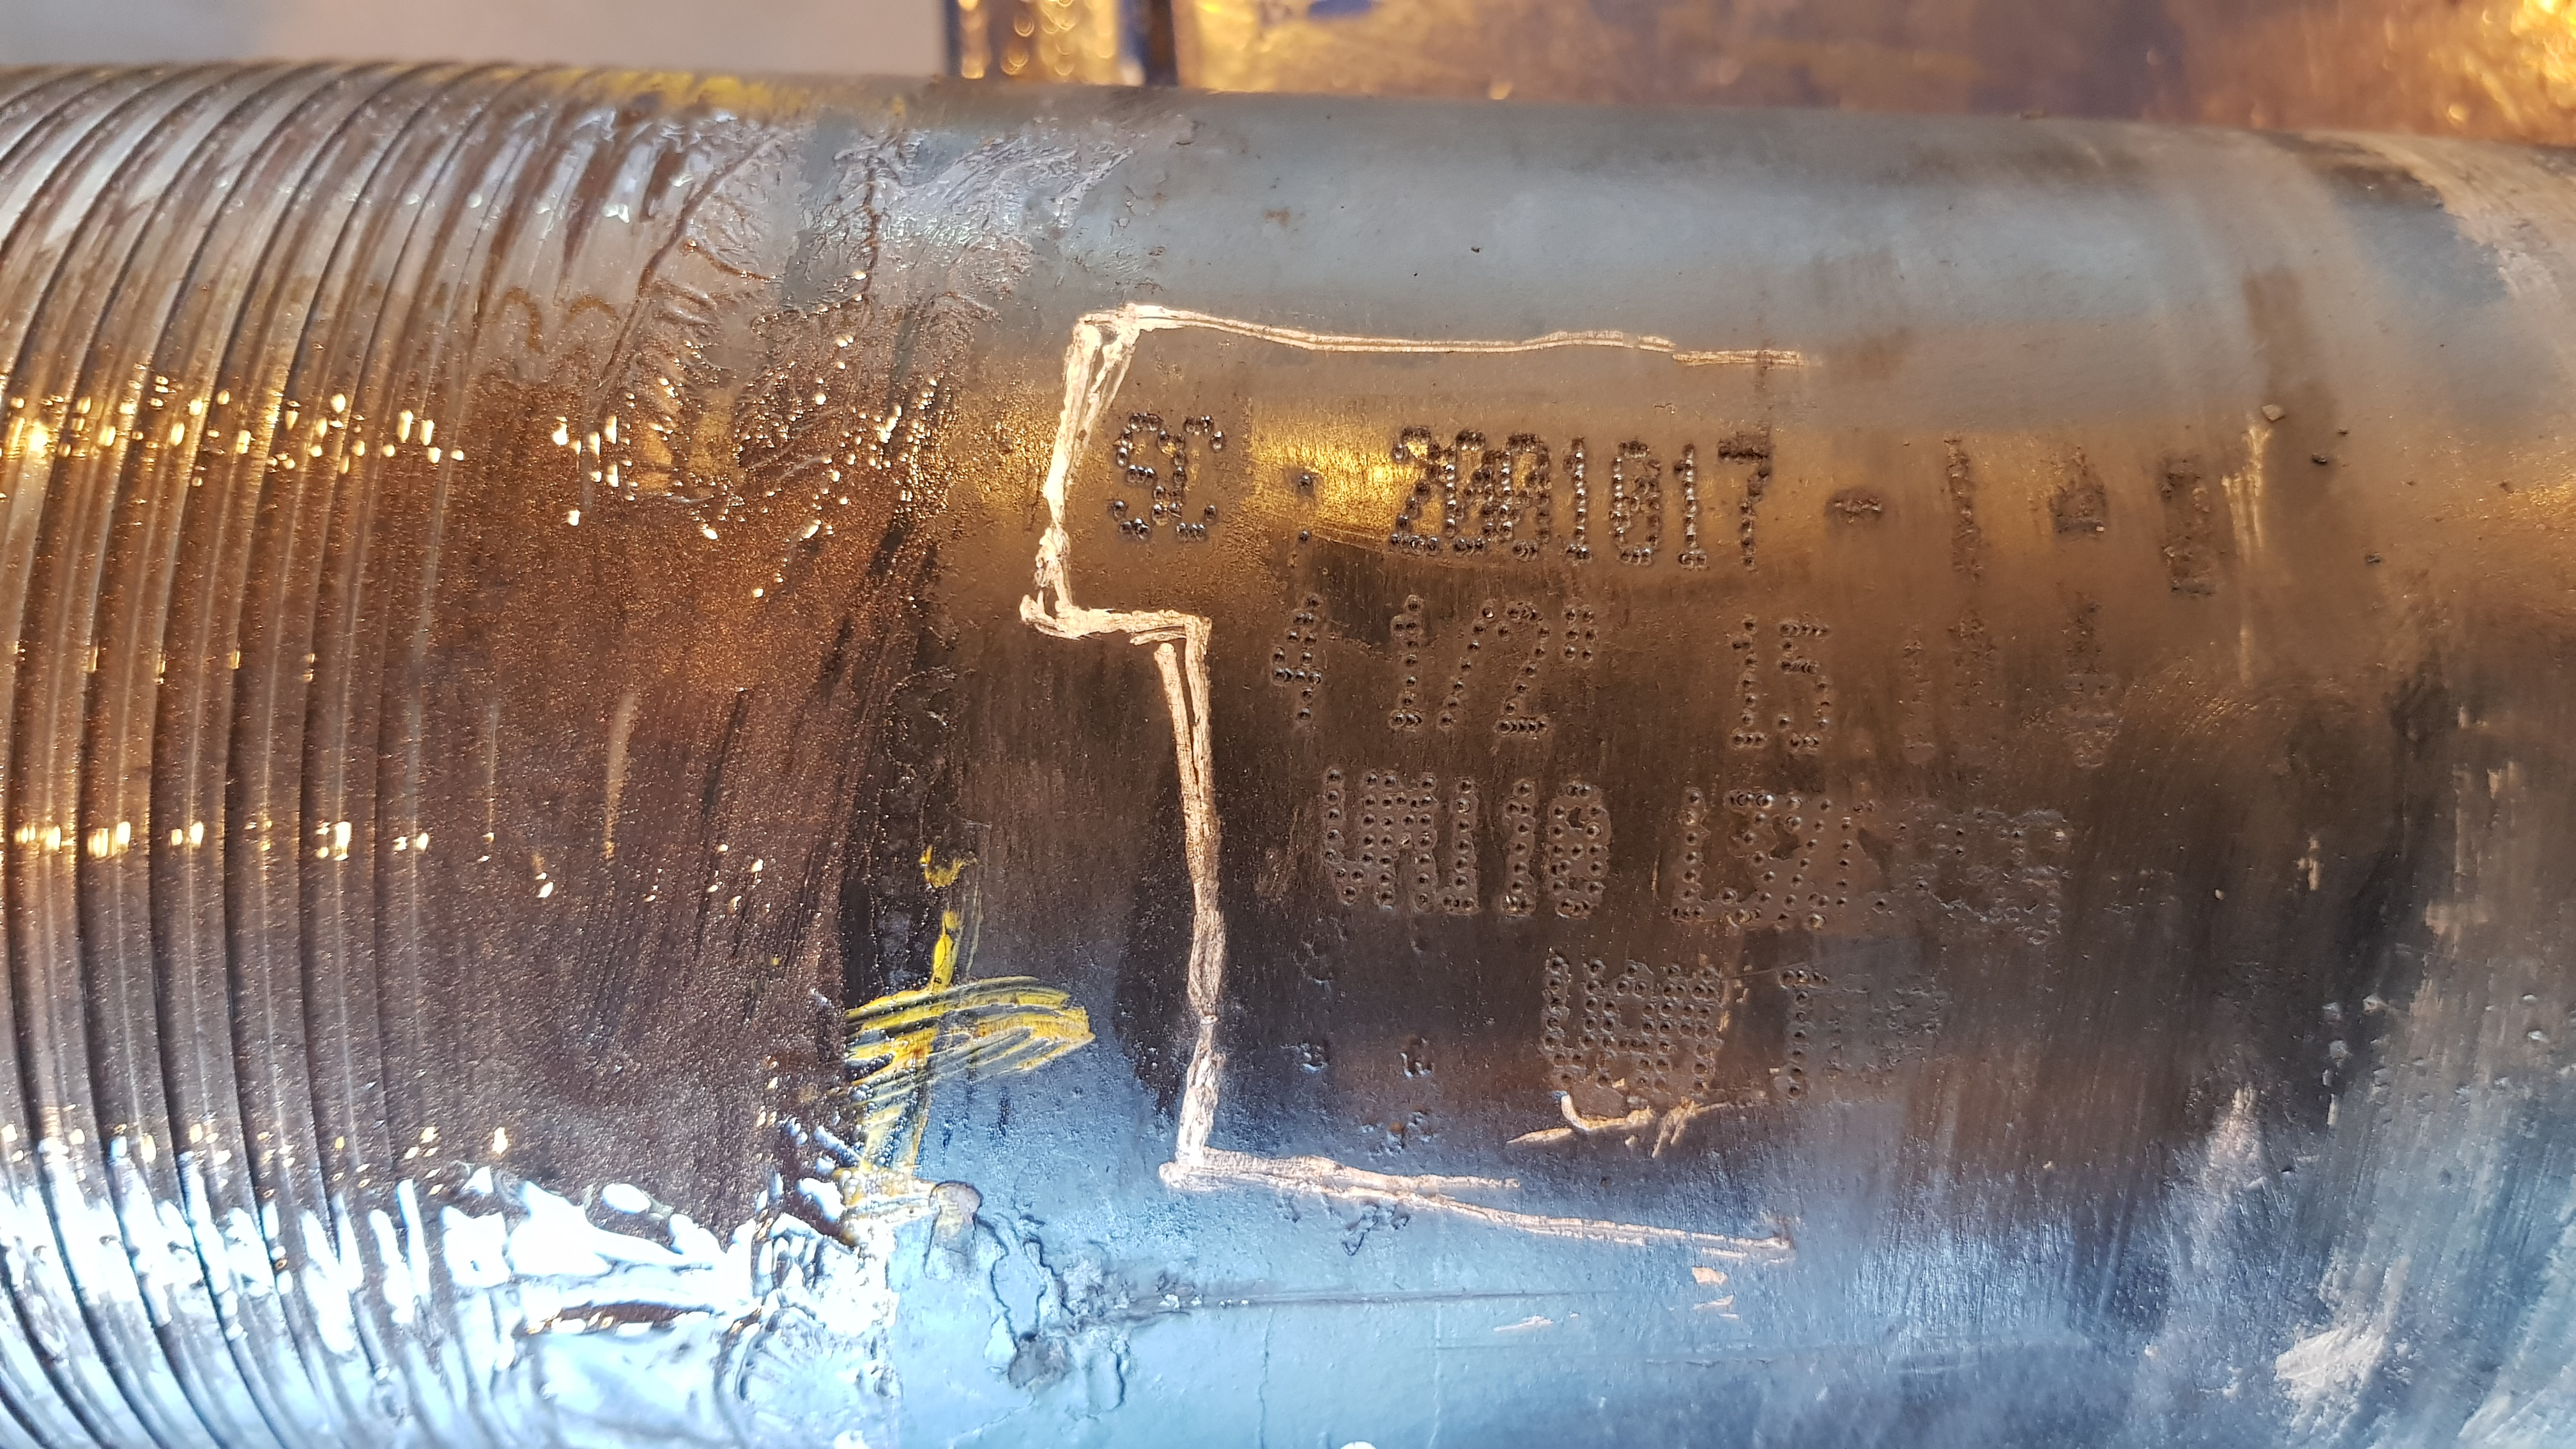character: (1767, 614, 1849, 755), (1258, 589, 1334, 729), (1548, 773, 1617, 920), (1714, 433, 1780, 587), (1316, 757, 1380, 909), (1375, 764, 1442, 908), (1102, 407, 1171, 545), (1601, 435, 1670, 573), (1490, 421, 1557, 561), (1497, 593, 1555, 743), (1435, 419, 1497, 559), (1435, 591, 1495, 729), (1166, 407, 1224, 548), (1380, 589, 1433, 736), (1387, 419, 1442, 559), (1497, 775, 1546, 922), (1553, 430, 1603, 568), (1727, 607, 1767, 752), (1444, 768, 1483, 915), (1674, 442, 1713, 571)
